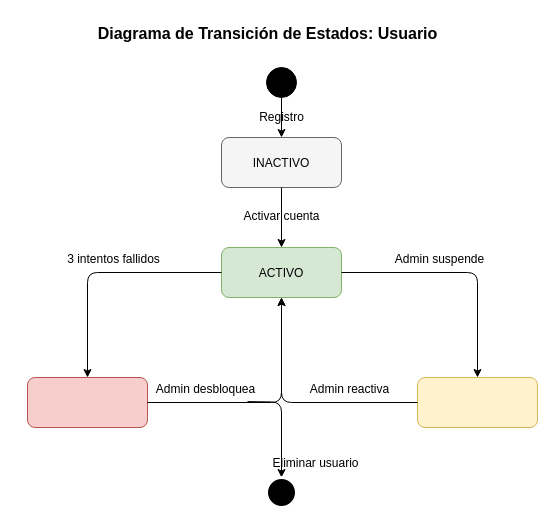
Some shapes in this 555 by 526 pixel diagram are drawn without their labels. Here are the shapes that lost their labels. From the top down, the box of each, then its label:
(26, 376, 148, 428): BLOQUEADO
(416, 376, 538, 428): SUSPENDIDO
